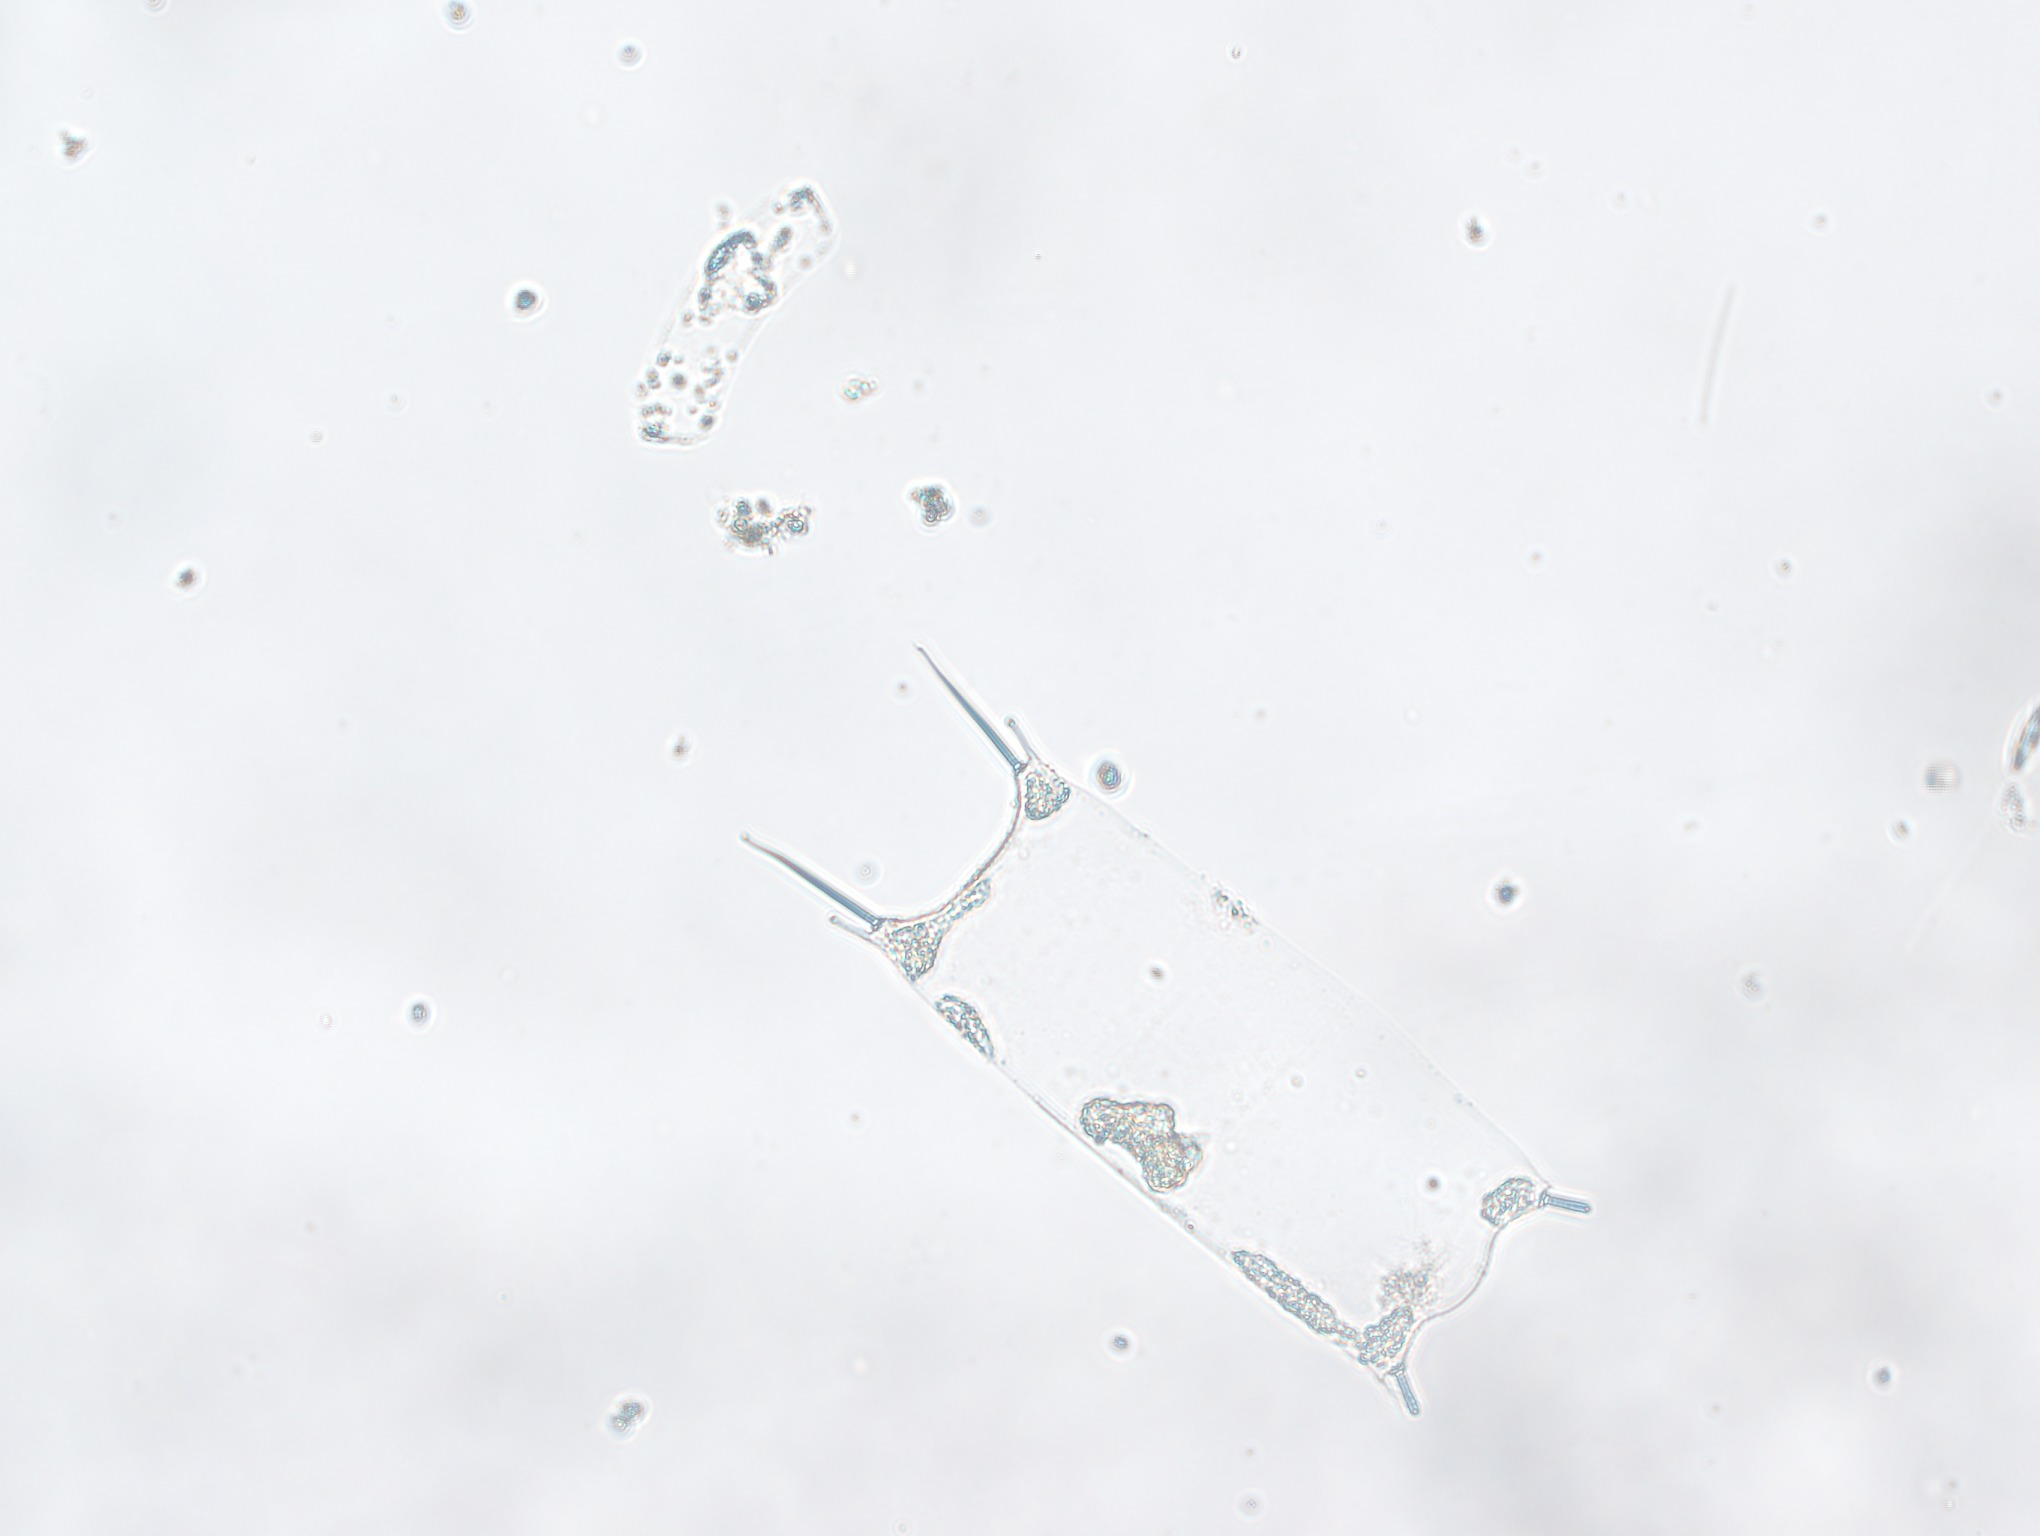biddulphia: (724, 645, 1619, 1425)
